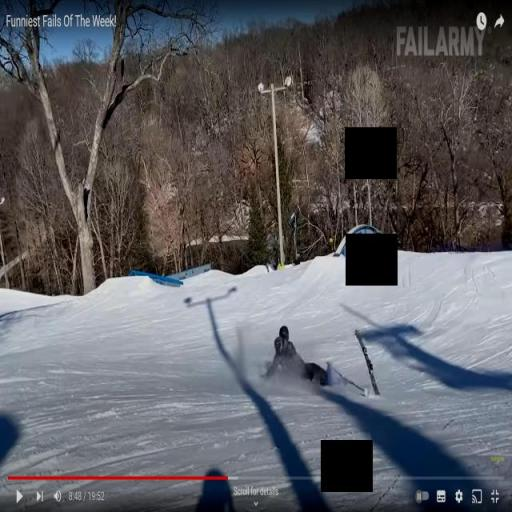Fall: (260, 322, 333, 388)
